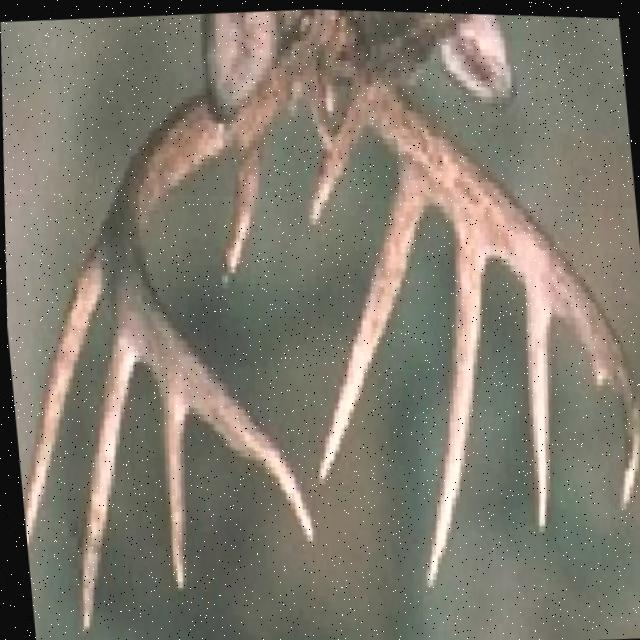E1: (308, 72, 330, 145)
L-F: (109, 8, 357, 541)
L-G1: (219, 125, 263, 290)
L-G2: (20, 213, 107, 551)
L-G3: (74, 310, 137, 632)
L-G4: (160, 388, 187, 592)
R-G1: (307, 91, 365, 226)
R-G2: (315, 162, 428, 483)
R-G3: (422, 226, 488, 592)
R-G4: (524, 282, 552, 532)
